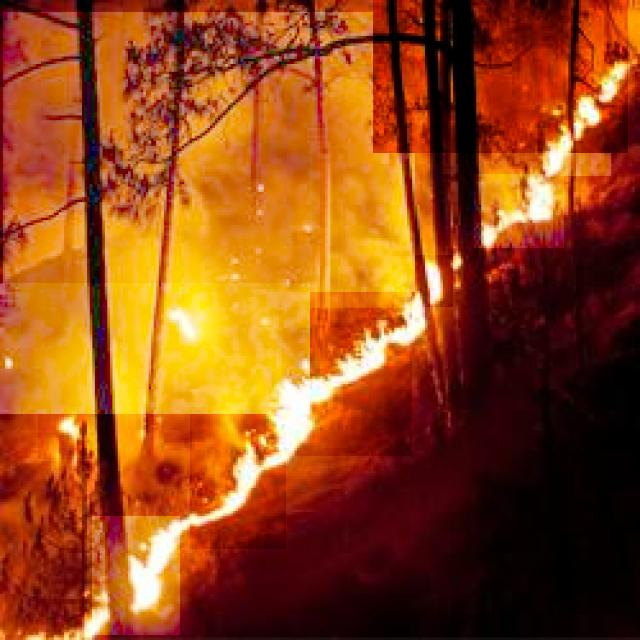Fire: (295, 308, 412, 456), (190, 406, 286, 550), (92, 516, 180, 635), (549, 64, 611, 176), (474, 174, 564, 248), (38, 405, 94, 459), (148, 296, 203, 346), (411, 255, 453, 308)
Smoke: (3, 12, 415, 292), (0, 283, 310, 414), (373, 0, 628, 153)
